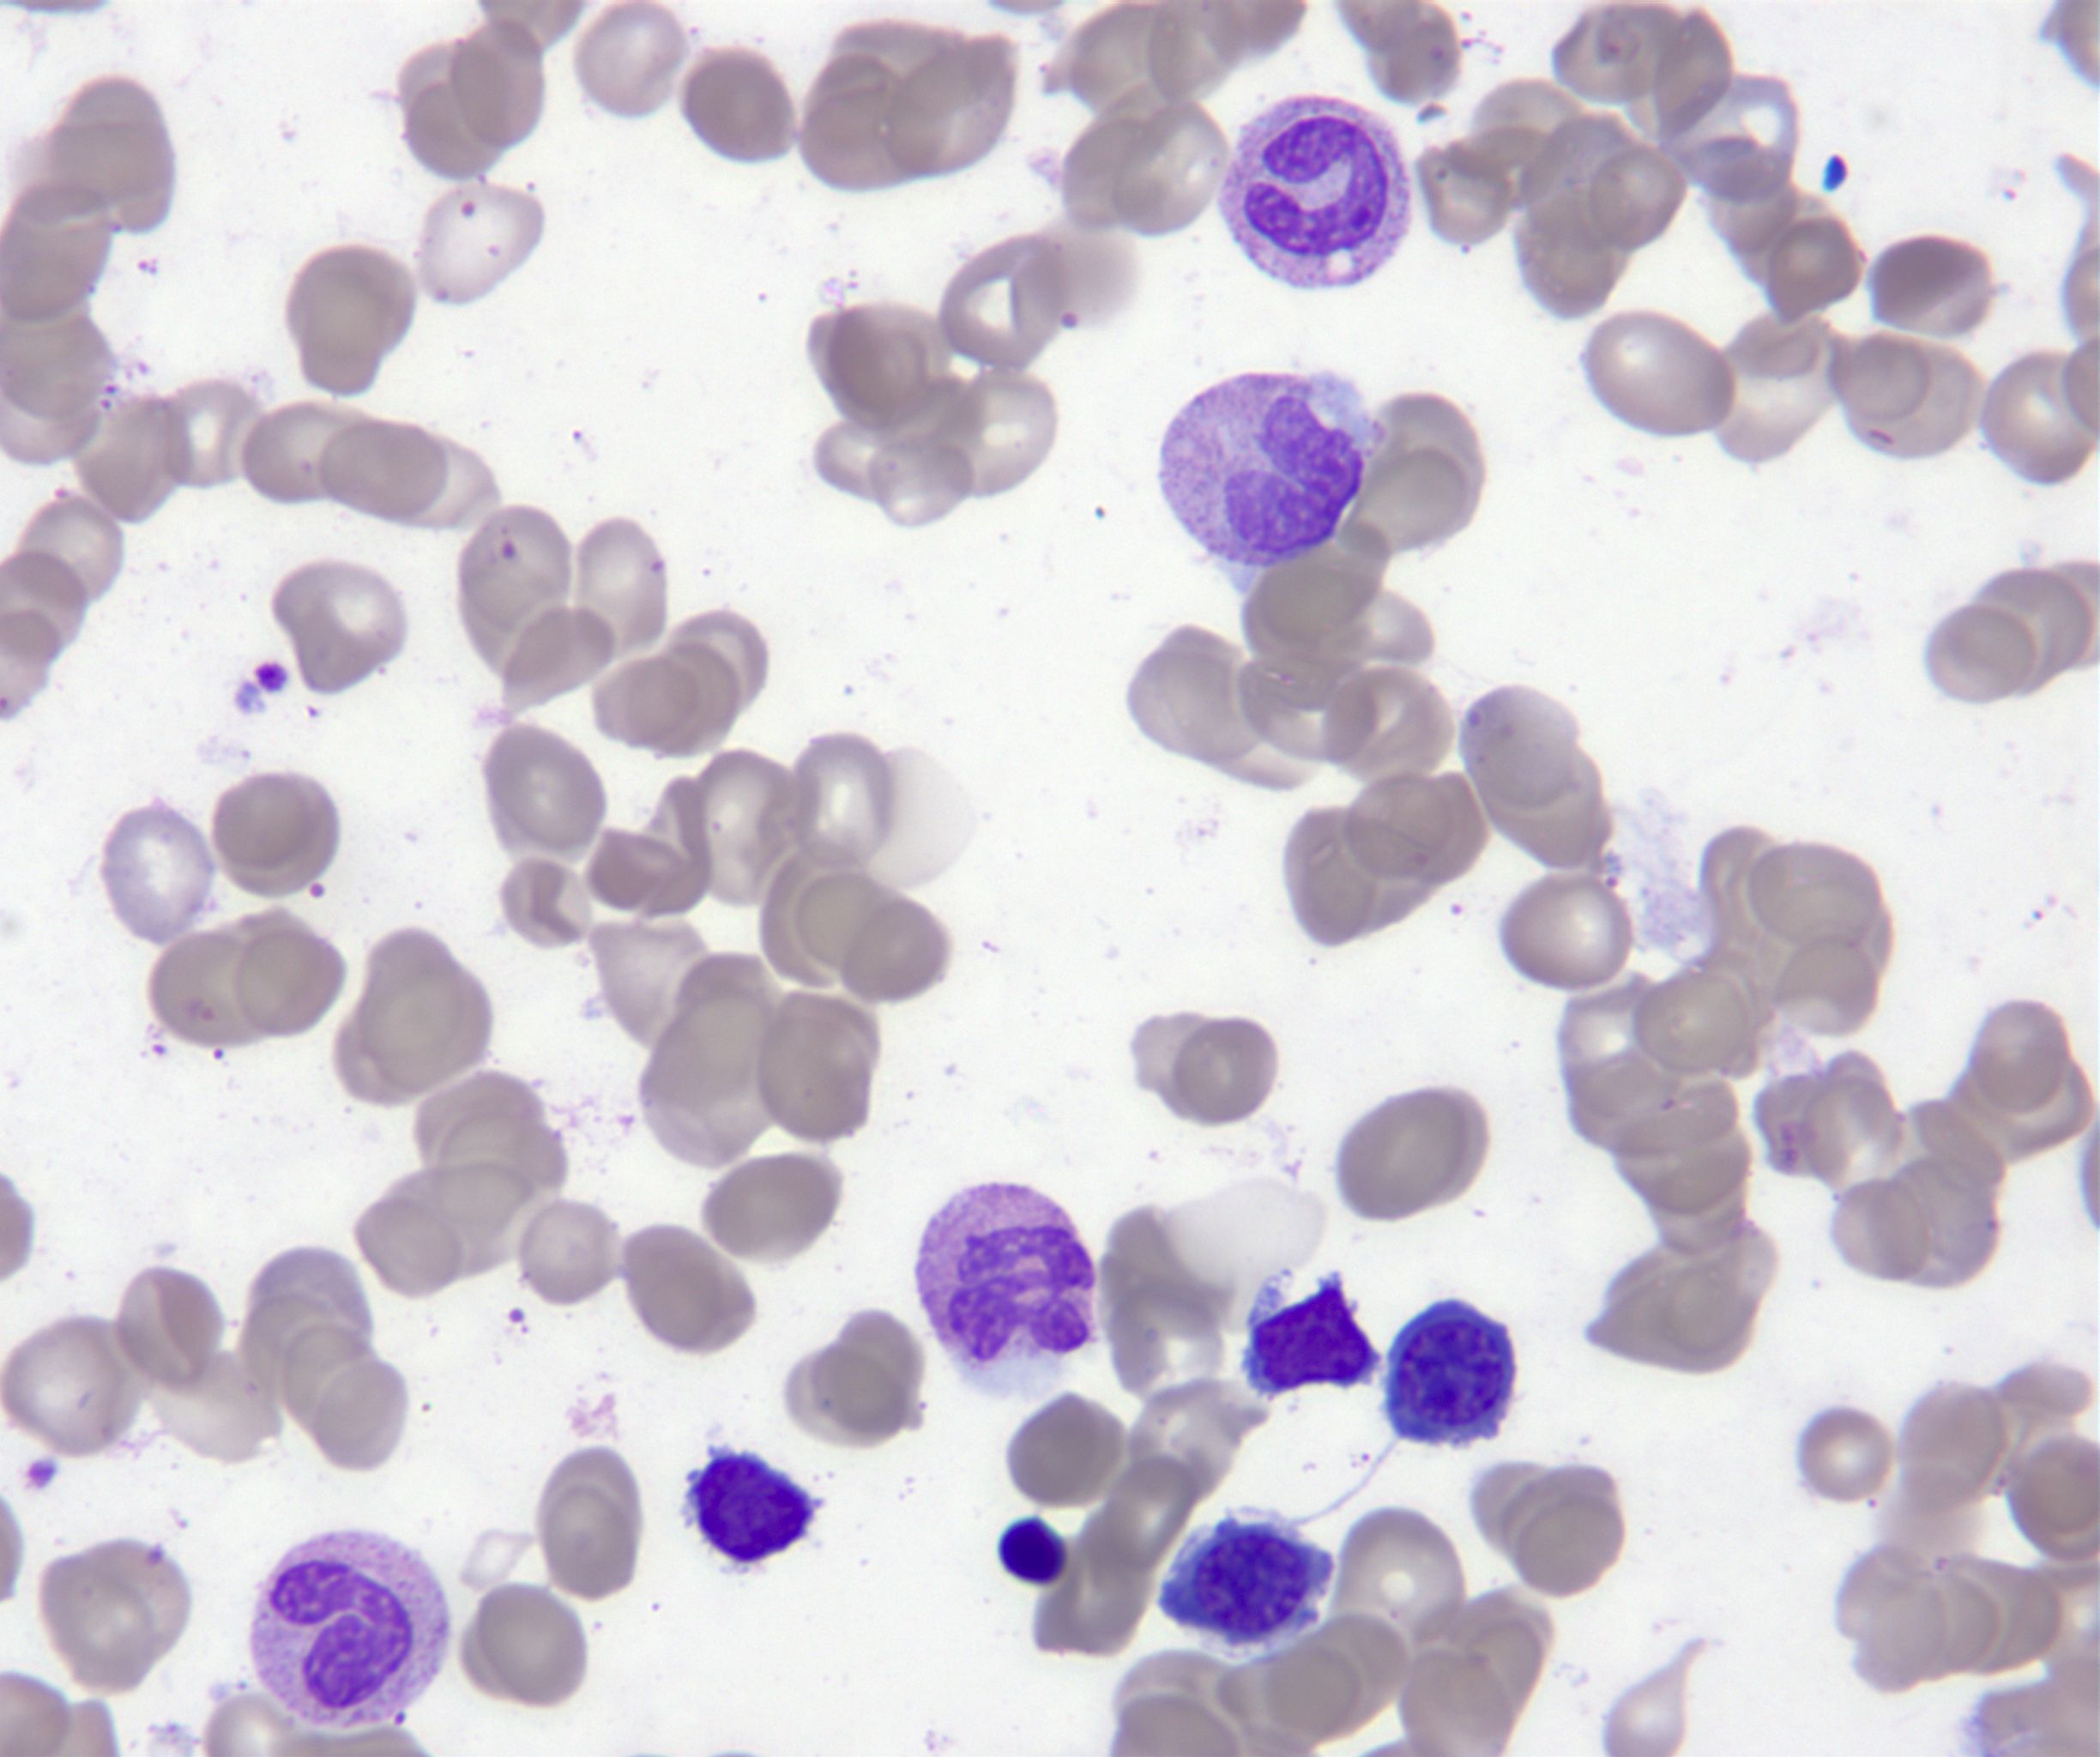23: (1158, 1511, 1329, 1642), (1387, 1302, 1517, 1450)
32: (1249, 1274, 1374, 1398), (687, 1446, 813, 1560)
5: (1163, 373, 1364, 564), (1224, 92, 1413, 288)
6: (246, 1530, 453, 1729), (916, 1186, 1095, 1396)
x: (996, 1520, 1071, 1583)
